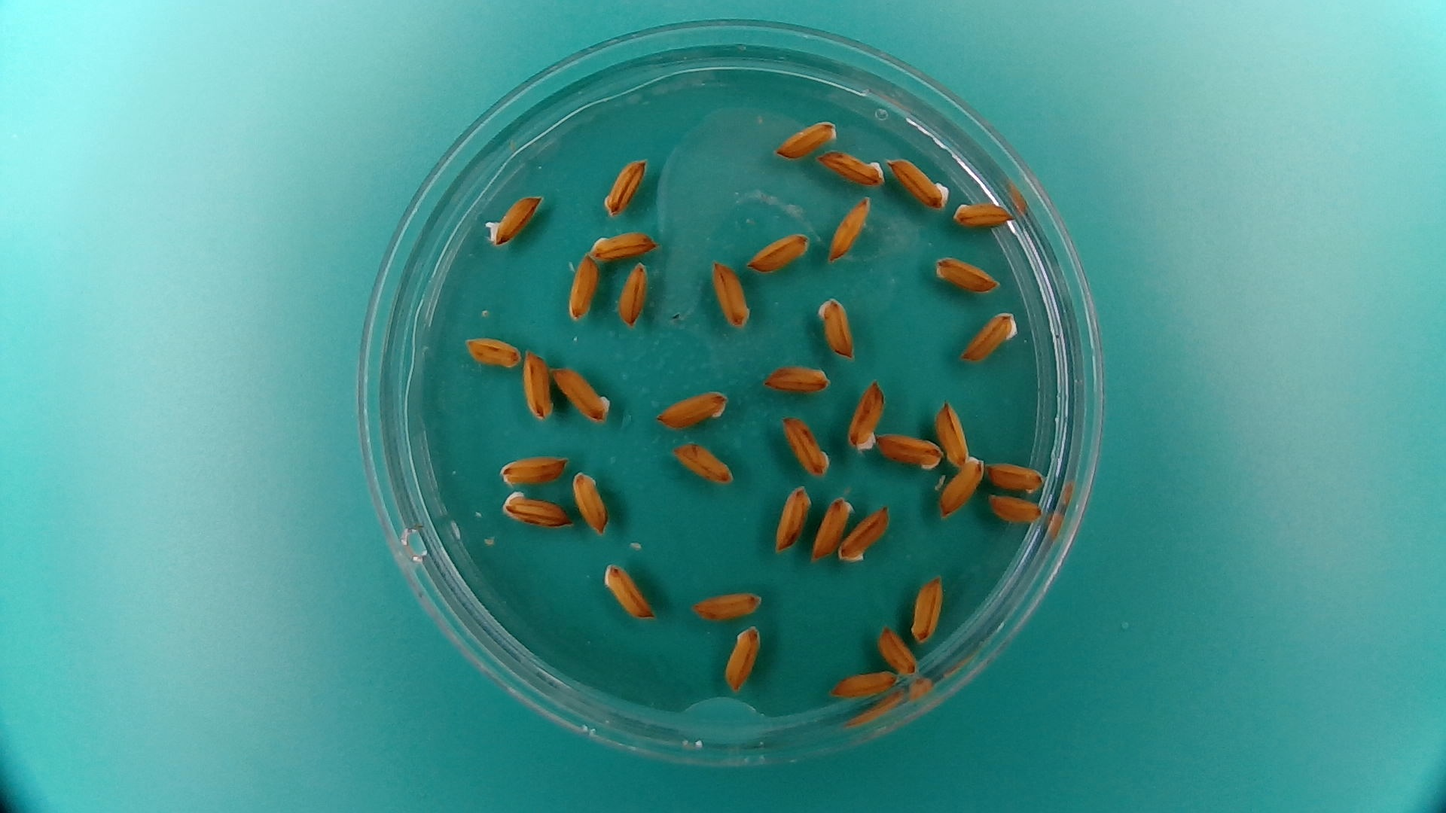no: (882, 152, 952, 212), (549, 361, 613, 424), (650, 385, 732, 433), (599, 559, 657, 623), (835, 502, 892, 565), (956, 308, 1020, 364), (778, 411, 831, 477), (936, 452, 987, 520), (826, 193, 874, 264), (844, 376, 887, 454), (744, 227, 812, 275), (668, 439, 737, 486), (810, 490, 855, 562), (720, 620, 763, 695), (601, 155, 652, 218), (709, 257, 753, 330), (770, 115, 840, 160), (874, 429, 945, 473), (815, 146, 887, 189), (498, 489, 573, 530), (907, 569, 947, 645), (771, 482, 813, 554), (687, 585, 766, 623), (932, 252, 1002, 294), (814, 294, 857, 362), (932, 395, 972, 468), (570, 468, 612, 537), (825, 665, 900, 702), (496, 452, 570, 489), (758, 360, 833, 396), (874, 623, 920, 681), (612, 260, 650, 329), (564, 253, 601, 323), (520, 346, 554, 422), (587, 228, 660, 261), (984, 458, 1046, 495), (462, 333, 523, 369), (950, 196, 1014, 228), (985, 492, 1045, 526)
yes: (482, 190, 545, 247)
